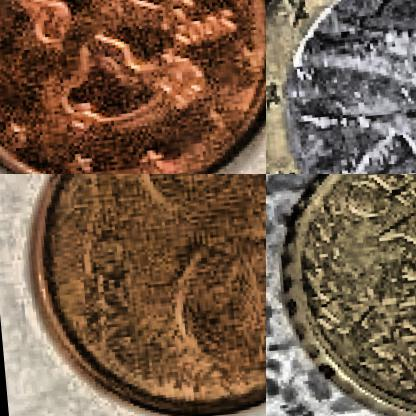coin: (12, 174, 265, 415), (0, 0, 265, 173), (268, 174, 415, 415), (266, 0, 415, 173)
